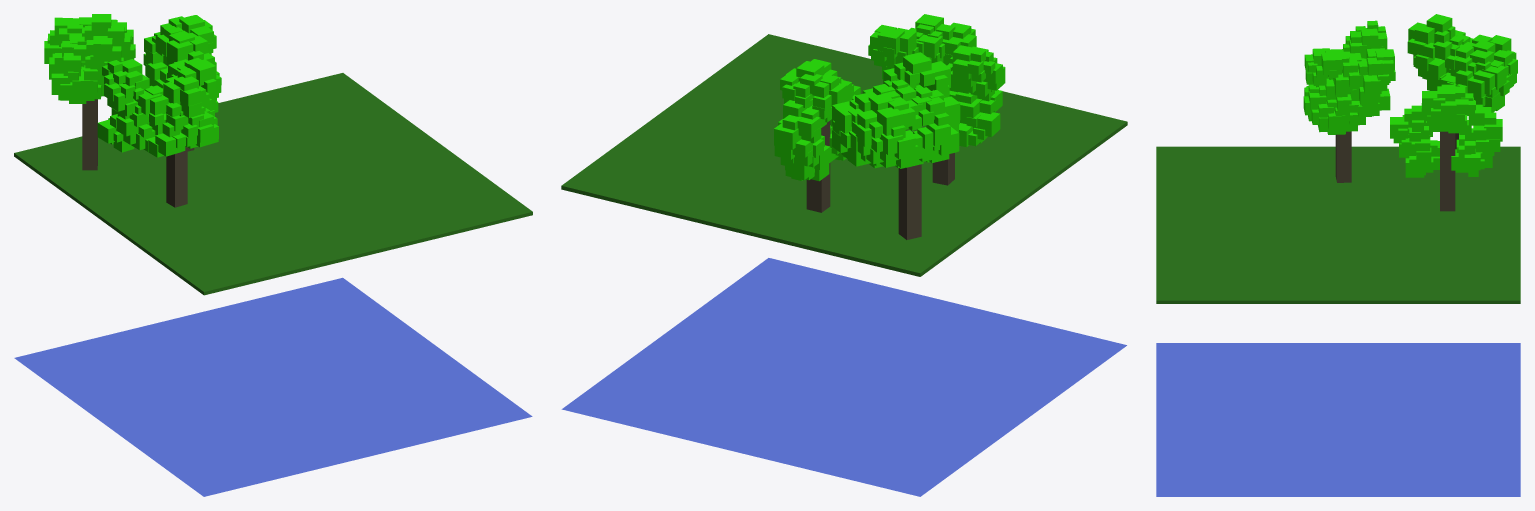
Rendered from 21__tile.fbx.
3 renders of one model, left to right at view 1: azimuth 30°, elevation 25°; view 2: azimuth 150°, elevation 25°; view 3: azimuth 270°, elevation 25°, orthographic. The views are drawn at different scales.
Visible parts, largest first — view 1: 21__tile; view 2: 21__tile; view 3: 21__tile.
Part boxes in pixels (<box>): 21__tile: <box>14,14,532,496</box>; 21__tile: <box>561,14,1127,496</box>; 21__tile: <box>1156,14,1520,496</box>.
Size of the model in its own units: 200 by 209 by 200.
